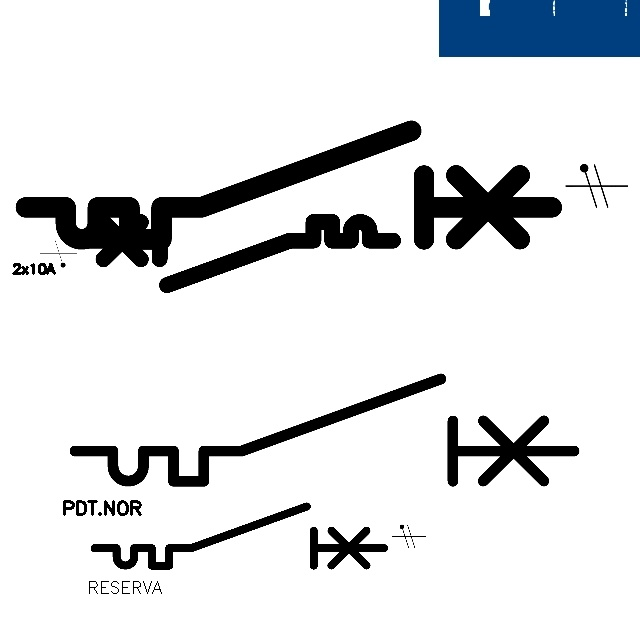interruptor_termomagnetico: (12, 117, 566, 253), (62, 366, 587, 494), (76, 214, 400, 293), (87, 499, 391, 573)
